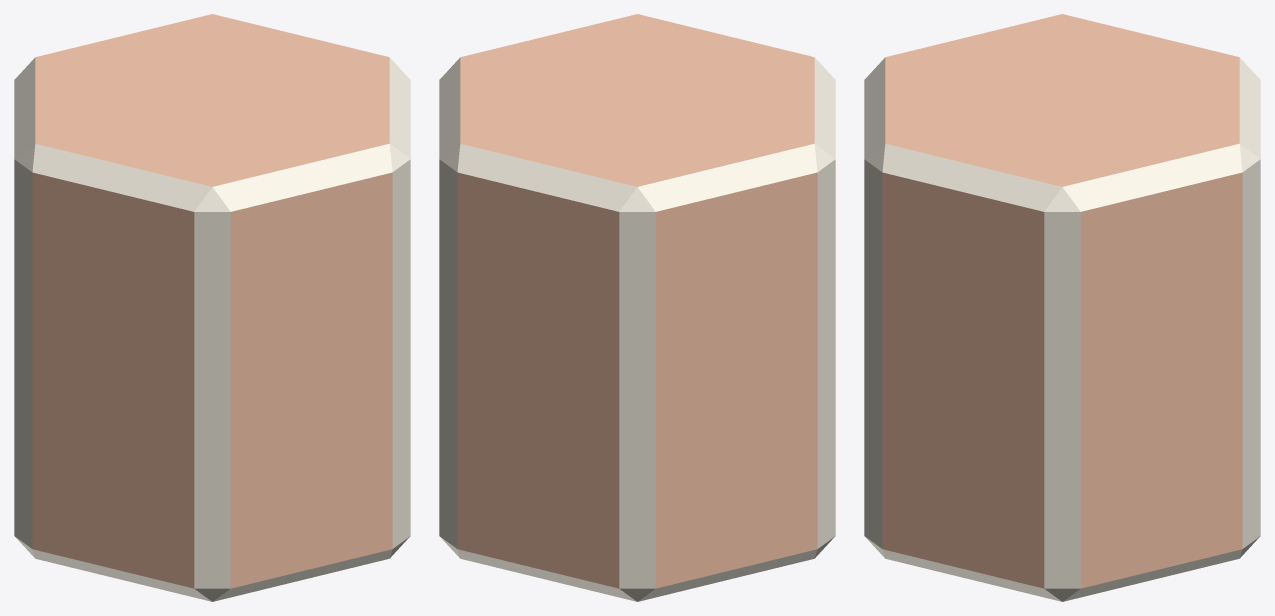
The model's file is R4B_HexColumn_LOD1.fbx.
The picture shows the model from 3 angles, left to right: view 1: azimuth 30°, elevation 25°; view 2: azimuth 150°, elevation 25°; view 3: azimuth 270°, elevation 25°; orthographic projection.
Visible parts, largest first — view 1: R4B_HexColumn_LOD1; view 2: R4B_HexColumn_LOD1; view 3: R4B_HexColumn_LOD1.
Boxes of the visible parts, left/top/right/bottom form: R4B_HexColumn_LOD1: left=14, top=14, right=410, bottom=601; R4B_HexColumn_LOD1: left=439, top=14, right=835, bottom=601; R4B_HexColumn_LOD1: left=864, top=14, right=1260, bottom=601.
Bounding box in the file's own units: 0.496 × 0.52 × 0.4503.
